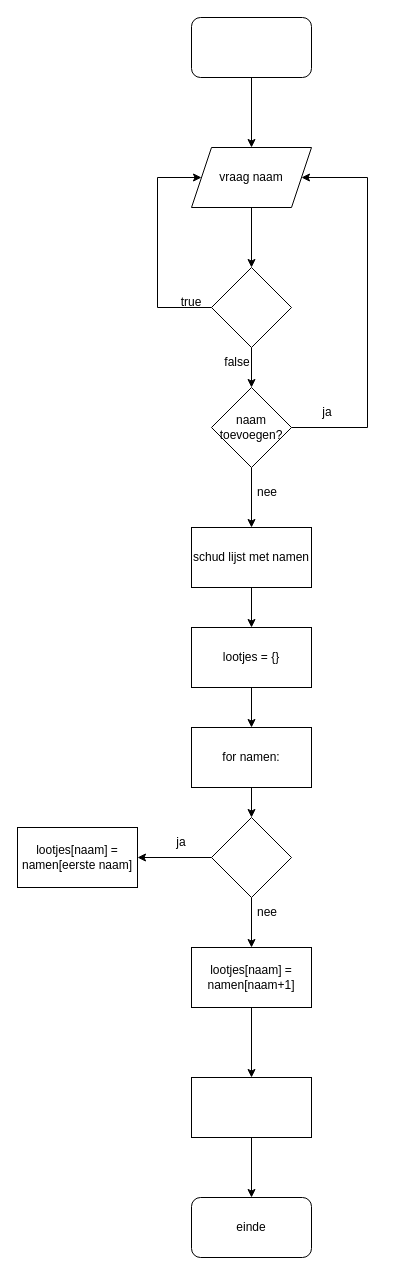
The diagram is 393 pixels wide and 1275 high, and some of its shapes have lost their labels. The shapes that lost their labels are listed below. From the top down, each one's centre as x and y in pixels, then its label:
At point 251,47: "start".
At point 251,307: "namen < 3".
At point 251,857: "laatste naam?".
At point 251,1107: "print lootjes".
